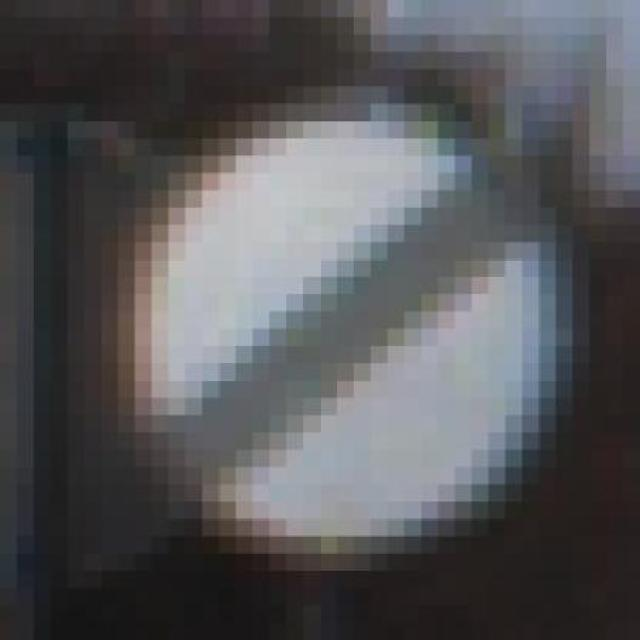End of all speed and passing limits: (84, 103, 590, 554)
